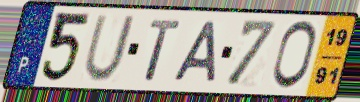5: (39, 11, 95, 85)
7: (227, 18, 279, 90)
A: (170, 19, 219, 85)
O: (269, 19, 319, 92)
T: (142, 17, 184, 84)
U: (81, 14, 138, 85)
